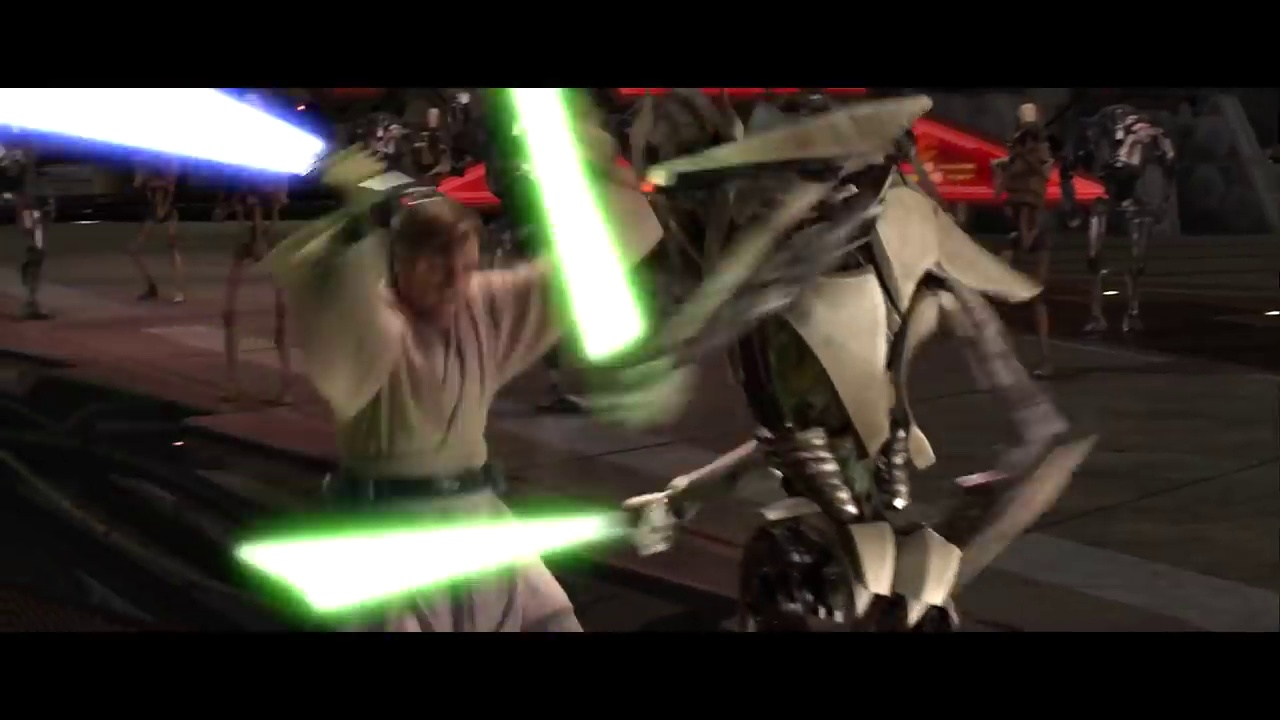lightsaber: (480, 86, 712, 400), (304, 482, 667, 626), (1, 83, 406, 206)
